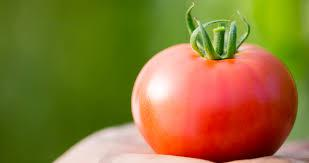tomato: (130, 39, 299, 160)
